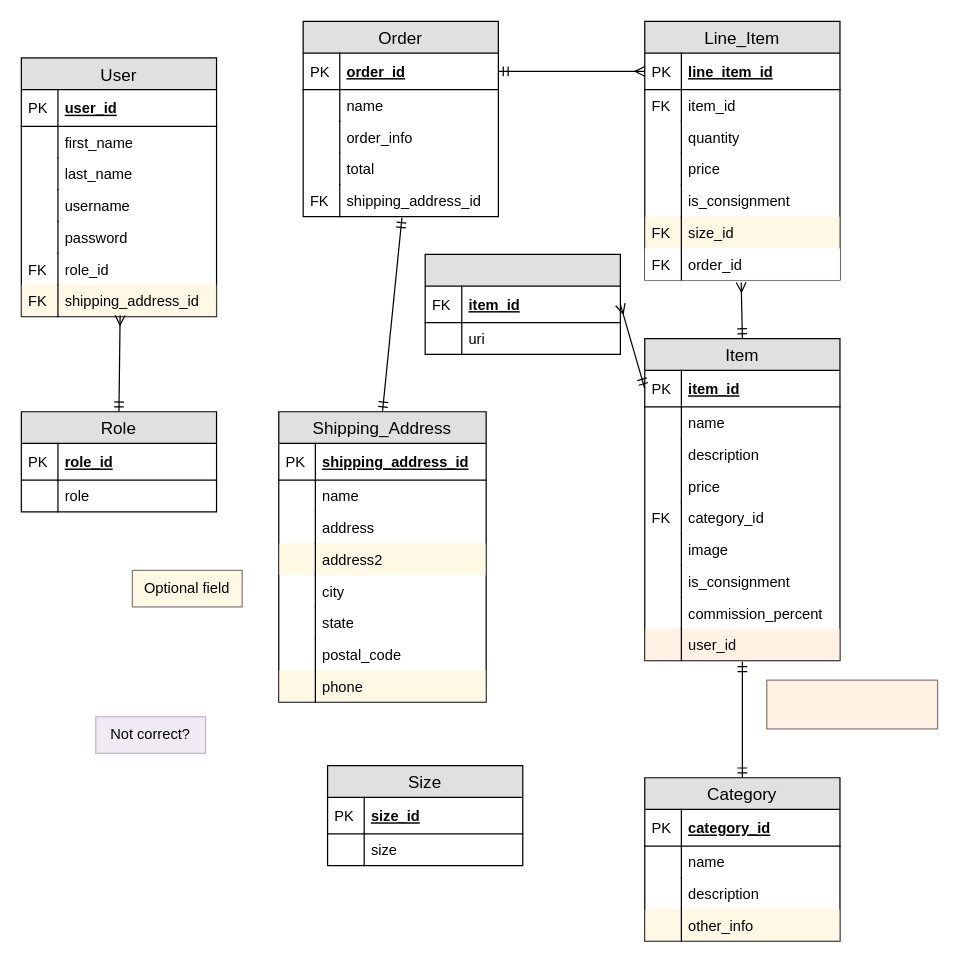
The diagram is 959 pixels wide and 966 high, and some of its shapes have lost their labels. The box of each missing label's shape, as (x1, y1, x2, y2) in pixels:
Images: (424, 253, 620, 354)
Required if is_consignment = True: (766, 679, 938, 729)
